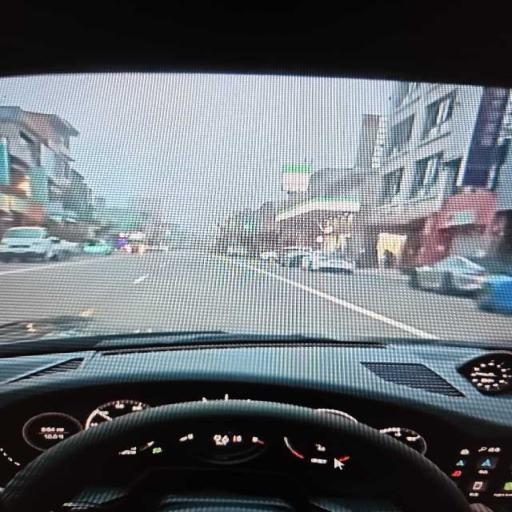car: (410, 257, 486, 294), (477, 275, 511, 313), (302, 253, 355, 273), (278, 247, 310, 267), (83, 239, 113, 255), (226, 246, 247, 257), (260, 251, 279, 261), (147, 244, 168, 252)
lane: (0, 251, 511, 342), (139, 252, 403, 339), (268, 266, 511, 343), (0, 255, 145, 322)
truck: (0, 227, 78, 262)
